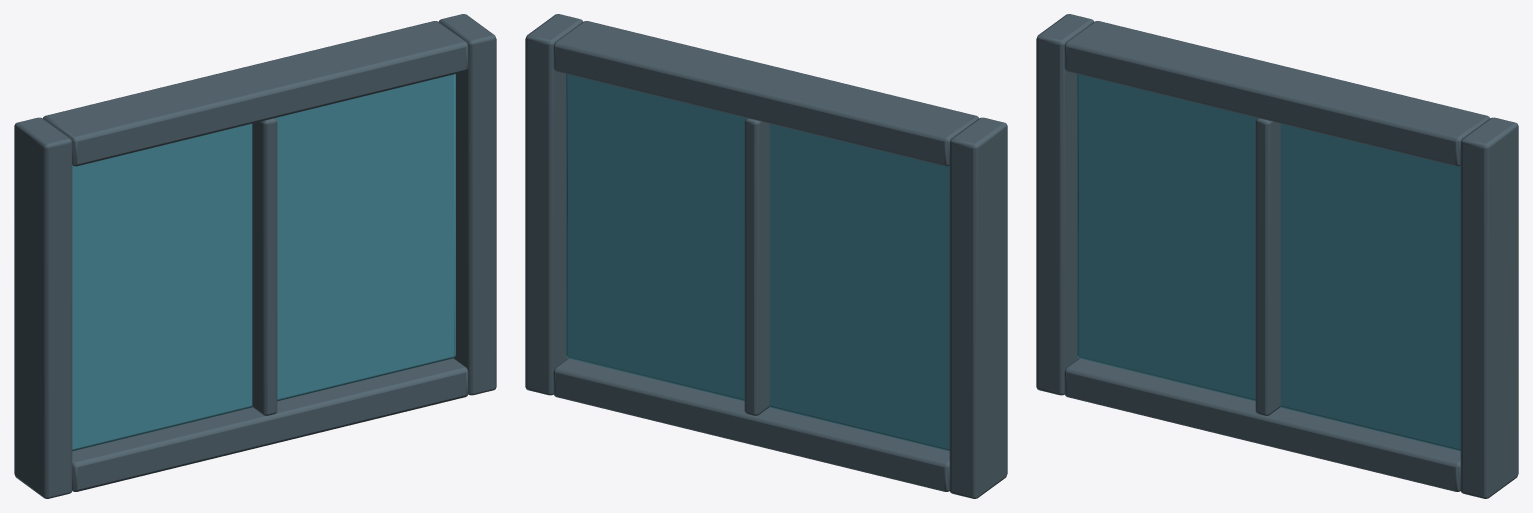
Rendered from MOD_Window_01.glb.
The picture shows the model from 3 angles, left to right: view 1: azimuth 30°, elevation 25°; view 2: azimuth 150°, elevation 25°; view 3: azimuth 330°, elevation 25°; orthographic projection.
Parts seen in each view (by area): view 1: MOD_Window_01; view 2: MOD_Window_01; view 3: MOD_Window_01.
Boxes of the visible parts, x1,y1,x2,y2 form: MOD_Window_01: [14, 14, 496, 498]; MOD_Window_01: [525, 14, 1007, 498]; MOD_Window_01: [1036, 14, 1518, 498].
Size of the model in its own units: 2 by 1.5 by 0.25.
